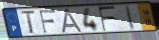4: (81, 7, 101, 33)
A: (60, 8, 85, 34)
F: (97, 5, 117, 33), (39, 9, 57, 34)
I: (124, 5, 136, 31)
T: (19, 9, 37, 35)
